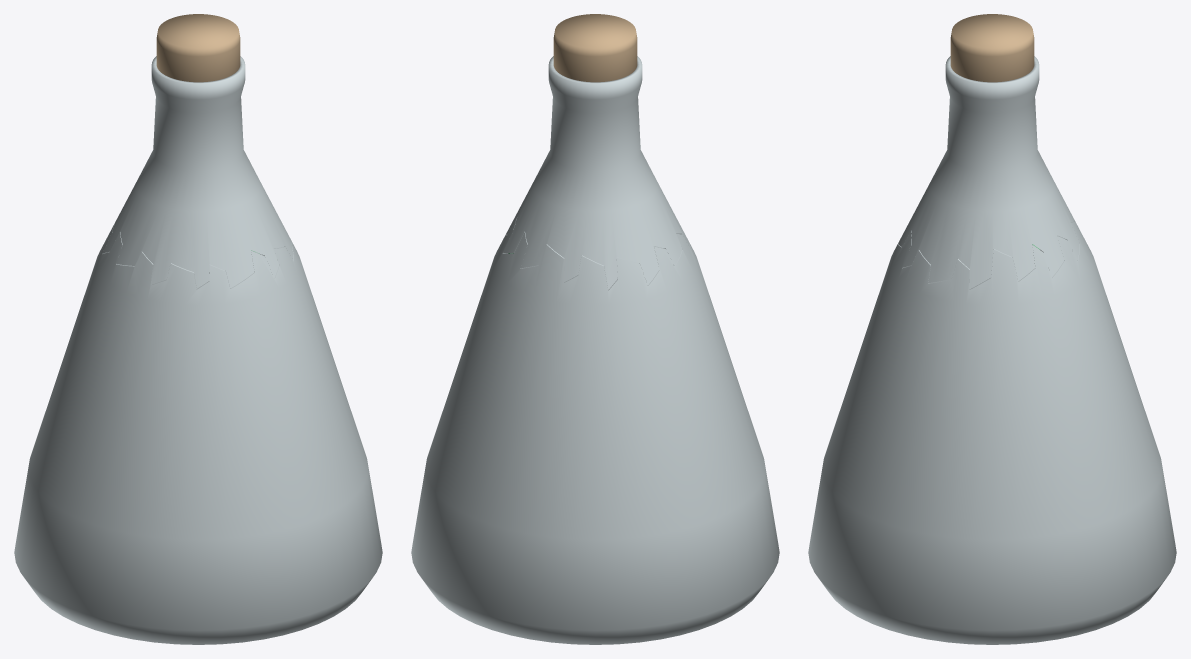
The model's file is bottle_flask_broken.glb.
3 views of the same model, side by side, from view 1: azimuth 30°, elevation 25°; view 2: azimuth 150°, elevation 25°; view 3: azimuth 270°, elevation 25° (orthographic).
Visible parts, largest first — view 1: Glass, Neck, Cap; view 2: Glass, Neck, Cap; view 3: Glass, Neck, Cap.
Part boxes in pixels (left/top/right/bottom): Glass: left=14, top=221, right=382, bottom=644; Neck: left=102, top=56, right=293, bottom=288; Cap: left=156, top=14, right=240, bottom=82; Glass: left=411, top=217, right=779, bottom=644; Neck: left=503, top=56, right=690, bottom=289; Cap: left=553, top=14, right=637, bottom=82; Glass: left=808, top=221, right=1176, bottom=644; Neck: left=898, top=56, right=1083, bottom=289; Cap: left=950, top=14, right=1034, bottom=82.
Size of the model in its own units: 0.13 by 0.215 by 0.13.
